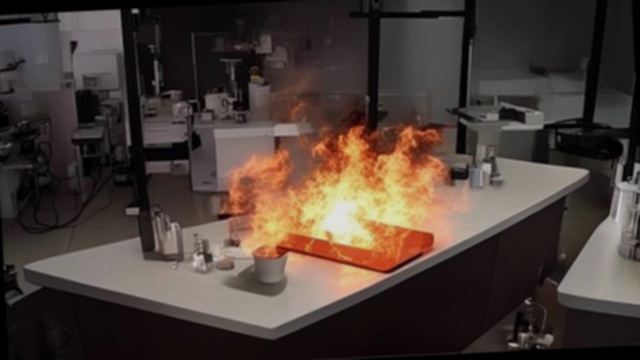fire: (214, 92, 449, 295)
